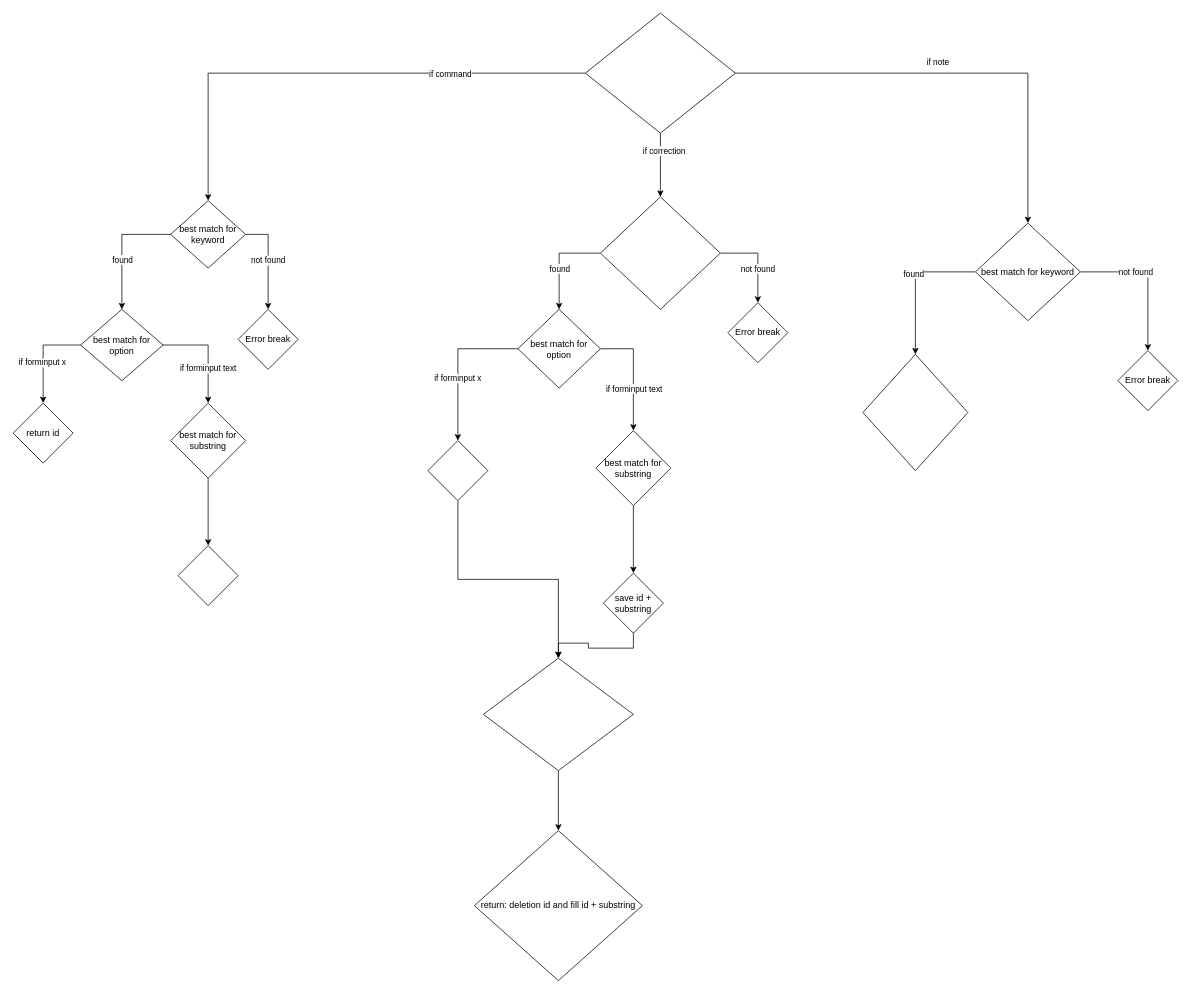
This 1191x994 diagram has some shape labels left out. Each missing label, with the box of its shape:
best match for keyword in available keywords list: (600, 196, 720, 309)
best match for option to delete: (483, 657, 633, 771)
command, corection, note: (585, 12, 735, 133)
find note string and attach to keyword referenze: (862, 354, 968, 471)
return id + substring: (177, 545, 238, 606)
save id: (427, 440, 488, 501)
